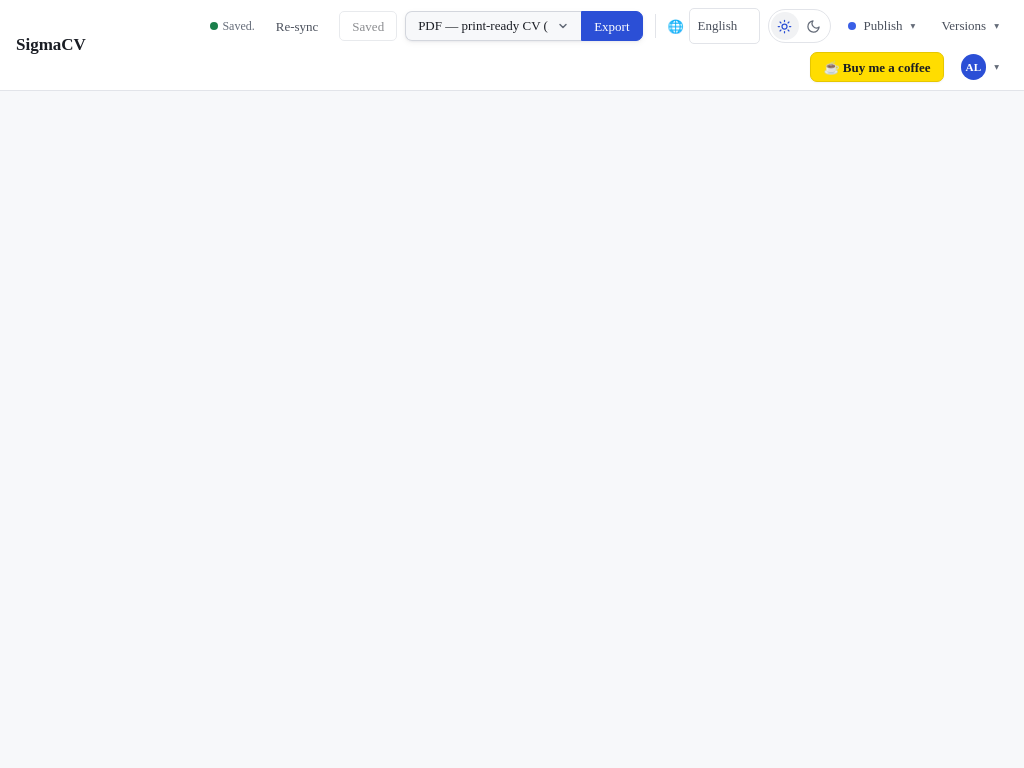
Test: TopBar (restructured editor top bar) › opens the publish menu as a dialog hosting the publish toggle
This screenshot has width=1024, height=768.
Click the button "Publish ▾": (881, 26) top-left (838, 11), bottom-right (924, 41)
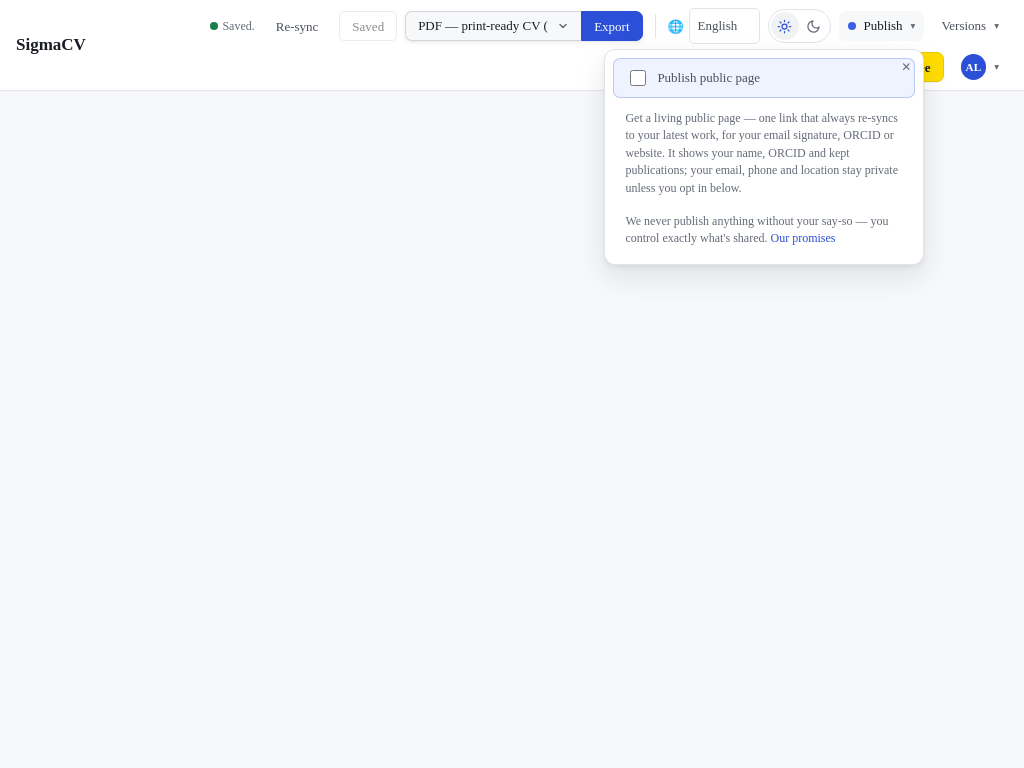
Result: the dialog is shown at top-left (604, 49), bottom-right (924, 265)
Result: the checkbox with test id "publish-toggle" is shown at top-left (630, 70), bottom-right (646, 86)
